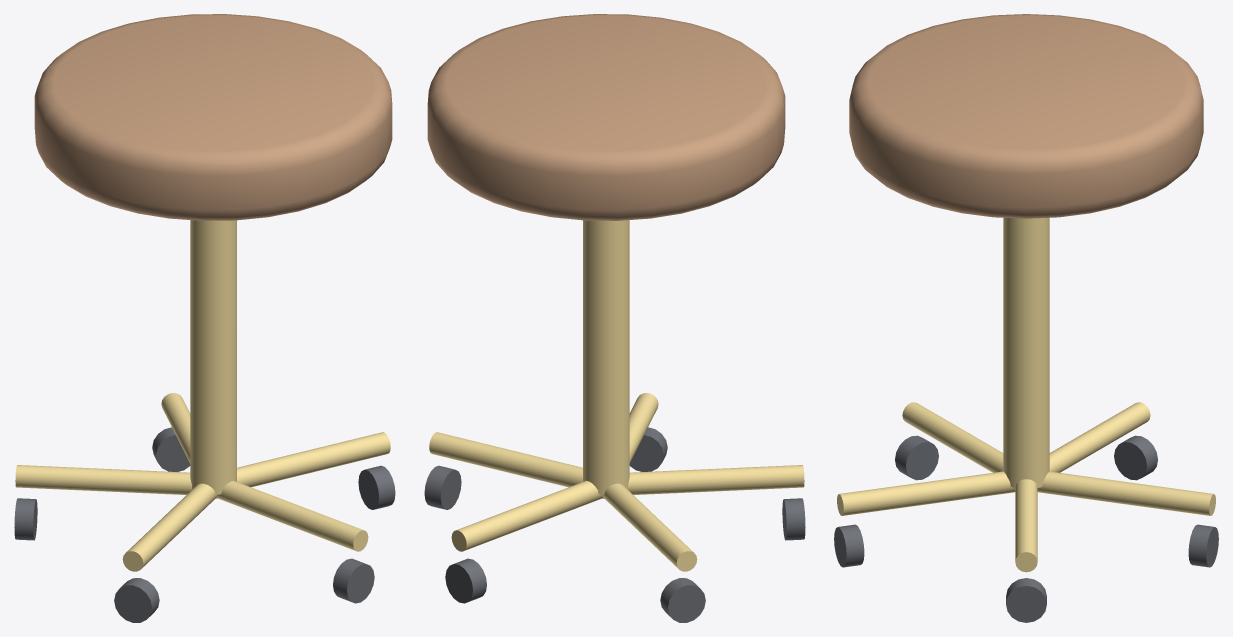
The model's file is stylist-swivel-stool.glb.
3 views of the same model, side by side, from view 1: azimuth 30°, elevation 25°; view 2: azimuth 150°, elevation 25°; view 3: azimuth 270°, elevation 25° (orthographic).
Parts seen in each view (by area): view 1: stool_LeatherSeat, stool_GasPiston, stool_SpokeArm_2, stool_SpokeArm_0, stool_SpokeArm_4, stool_SpokeArm_3, stool_CasterWheel_3, stool_CasterWheel_4, stool_CasterWheel_0, stool_SpokeArm_1, stool_CasterWheel_1, stool_CasterWheel_2; view 2: stool_LeatherSeat, stool_GasPiston, stool_SpokeArm_3, stool_SpokeArm_0, stool_SpokeArm_1, stool_SpokeArm_2, stool_CasterWheel_2, stool_CasterWheel_1, stool_CasterWheel_0, stool_SpokeArm_4, stool_CasterWheel_4, stool_CasterWheel_3; view 3: stool_LeatherSeat, stool_GasPiston, stool_SpokeArm_1, stool_SpokeArm_4, stool_SpokeArm_2, stool_SpokeArm_3, stool_SpokeArm_0, stool_CasterWheel_0, stool_CasterWheel_2, stool_CasterWheel_3, stool_CasterWheel_1, stool_CasterWheel_4.
Boxes of the visible parts, left/top/right/bottom form: stool_LeatherSeat: left=34, top=14, right=392, bottom=220; stool_GasPiston: left=190, top=220, right=236, bottom=494; stool_SpokeArm_2: left=15, top=465, right=192, bottom=494; stool_SpokeArm_0: left=237, top=432, right=390, bottom=487; stool_SpokeArm_4: left=216, top=480, right=368, bottom=551; stool_SpokeArm_3: left=122, top=483, right=217, bottom=571; stool_CasterWheel_3: left=114, top=578, right=159, bottom=622; stool_CasterWheel_4: left=333, top=558, right=374, bottom=603; stool_CasterWheel_0: left=358, top=465, right=395, bottom=509; stool_SpokeArm_1: left=161, top=393, right=217, bottom=498; stool_CasterWheel_1: left=152, top=427, right=190, bottom=471; stool_CasterWheel_2: left=14, top=498, right=37, bottom=540; stool_LeatherSeat: left=427, top=14, right=785, bottom=220; stool_GasPiston: left=583, top=220, right=629, bottom=494; stool_SpokeArm_3: left=627, top=465, right=804, bottom=494; stool_SpokeArm_0: left=429, top=432, right=582, bottom=487; stool_SpokeArm_1: left=451, top=480, right=603, bottom=551; stool_SpokeArm_2: left=602, top=483, right=697, bottom=571; stool_CasterWheel_2: left=660, top=578, right=705, bottom=622; stool_CasterWheel_1: left=445, top=558, right=486, bottom=603; stool_CasterWheel_0: left=424, top=465, right=461, bottom=509; stool_SpokeArm_4: left=602, top=393, right=658, bottom=498; stool_CasterWheel_4: left=629, top=427, right=667, bottom=471; stool_CasterWheel_3: left=782, top=498, right=805, bottom=540; stool_LeatherSeat: left=849, top=14, right=1203, bottom=218; stool_GasPiston: left=1003, top=217, right=1049, bottom=487; stool_SpokeArm_1: left=1037, top=471, right=1215, bottom=515; stool_SpokeArm_4: left=837, top=471, right=1015, bottom=515; stool_SpokeArm_2: left=1049, top=402, right=1150, bottom=472; stool_SpokeArm_3: left=902, top=402, right=1003, bottom=472; stool_SpokeArm_0: left=1015, top=479, right=1037, bottom=572; stool_CasterWheel_0: left=1006, top=578, right=1046, bottom=622; stool_CasterWheel_2: left=1114, top=435, right=1157, bottom=480; stool_CasterWheel_3: left=895, top=435, right=938, bottom=480; stool_CasterWheel_1: left=1188, top=524, right=1218, bottom=567; stool_CasterWheel_4: left=834, top=524, right=864, bottom=567.
Size of the model in its own units: 0.4 by 0.542 by 0.413.
